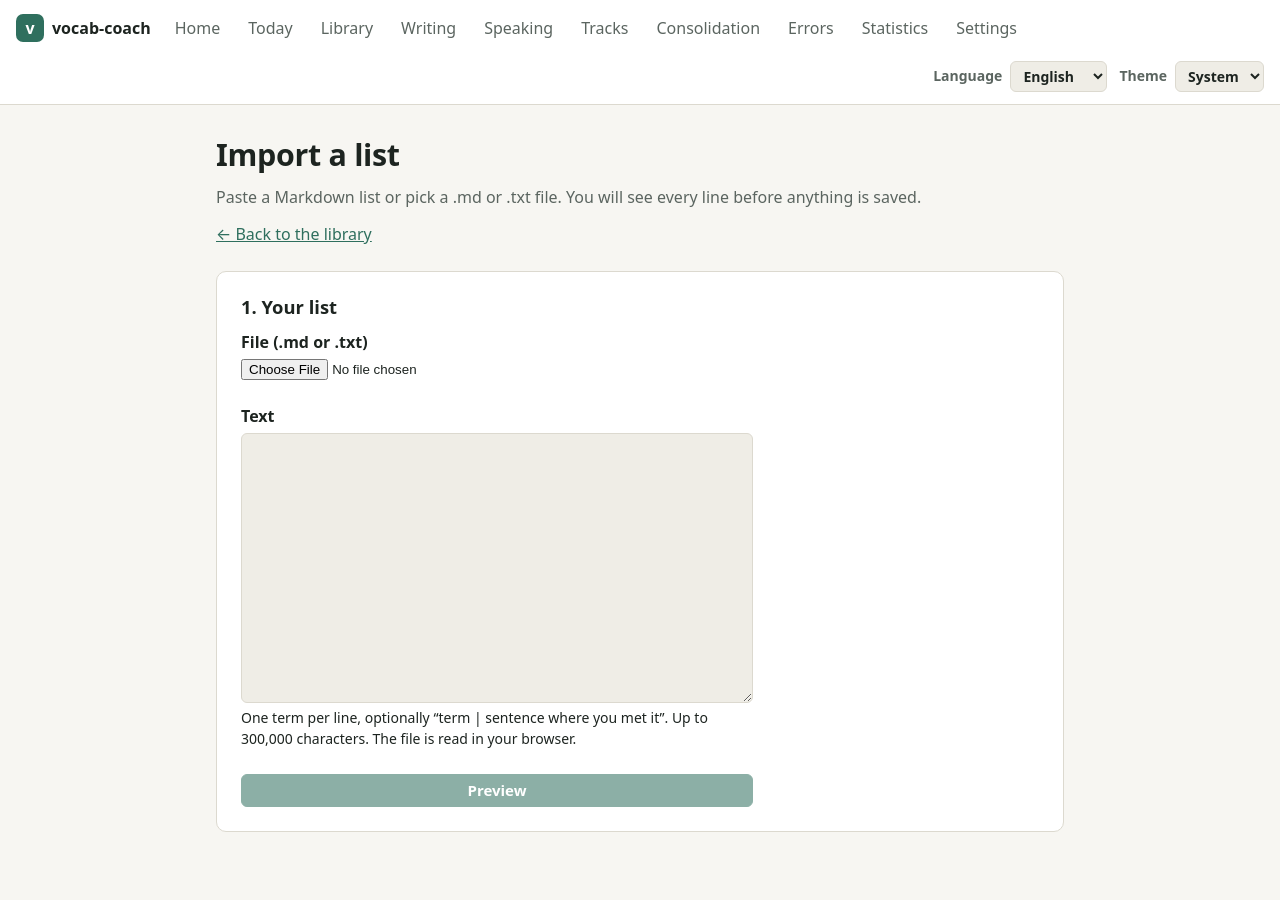
import page › keeps the default duplicate choice: attach to the exact match
The width and height of the screenshot is (1280, 900).
Type "- sampling frame" into the text box labelled "Text" at [497, 568], box [241, 432, 753, 703]
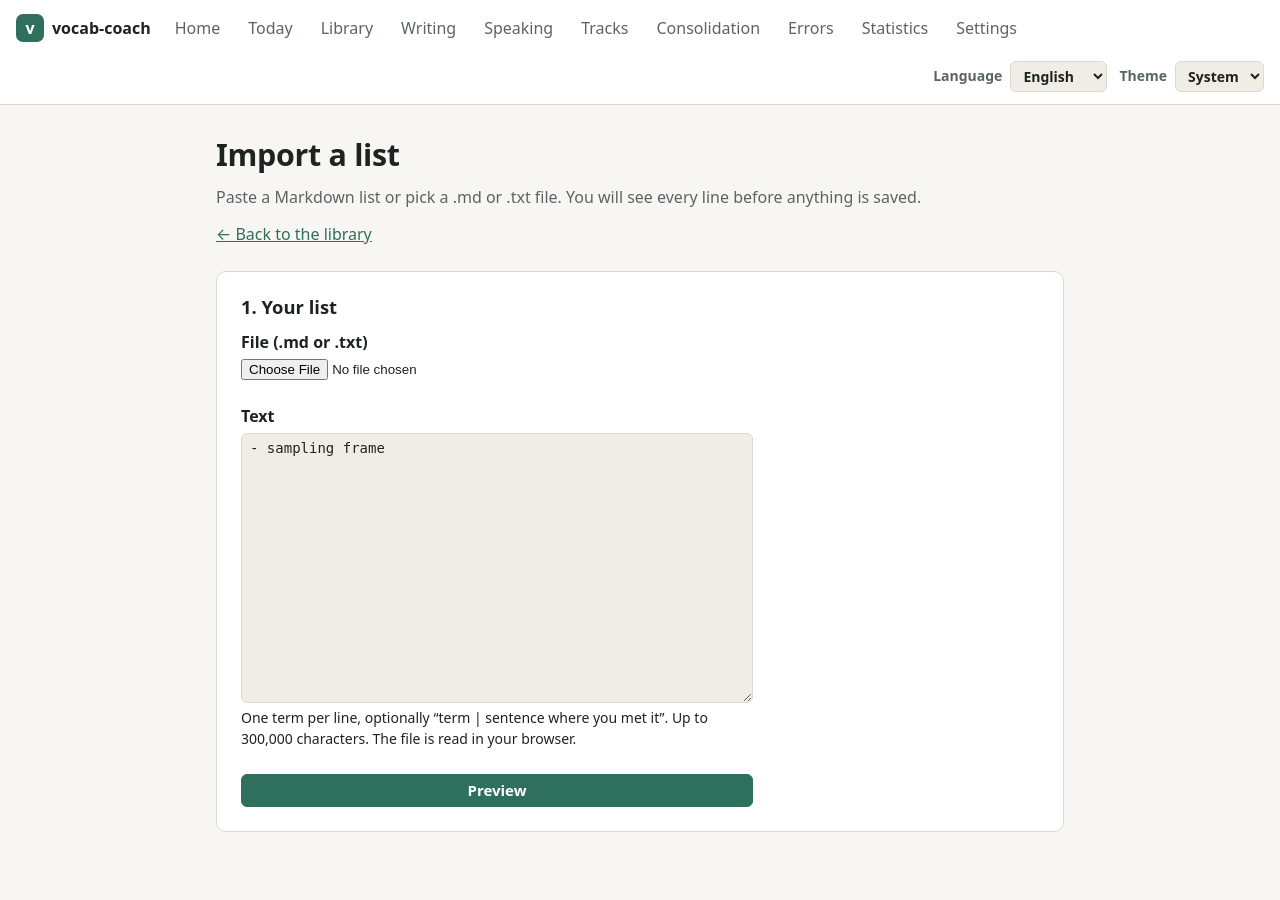
Click the button "Preview" at [497, 791], box [241, 774, 753, 808]
(page scrolled)
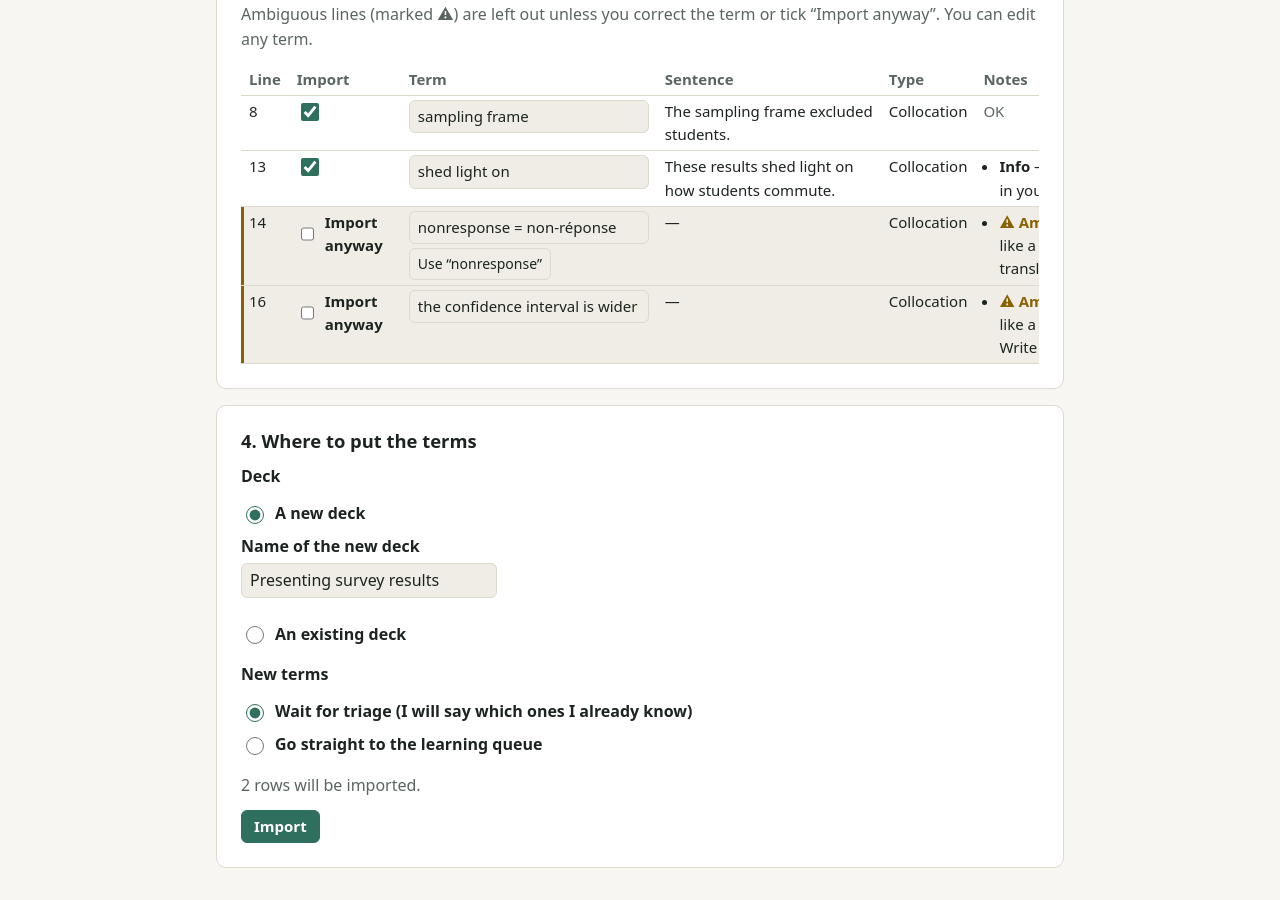
Click the button "Import" at [280, 826], box [241, 810, 320, 843]
(page scrolled)
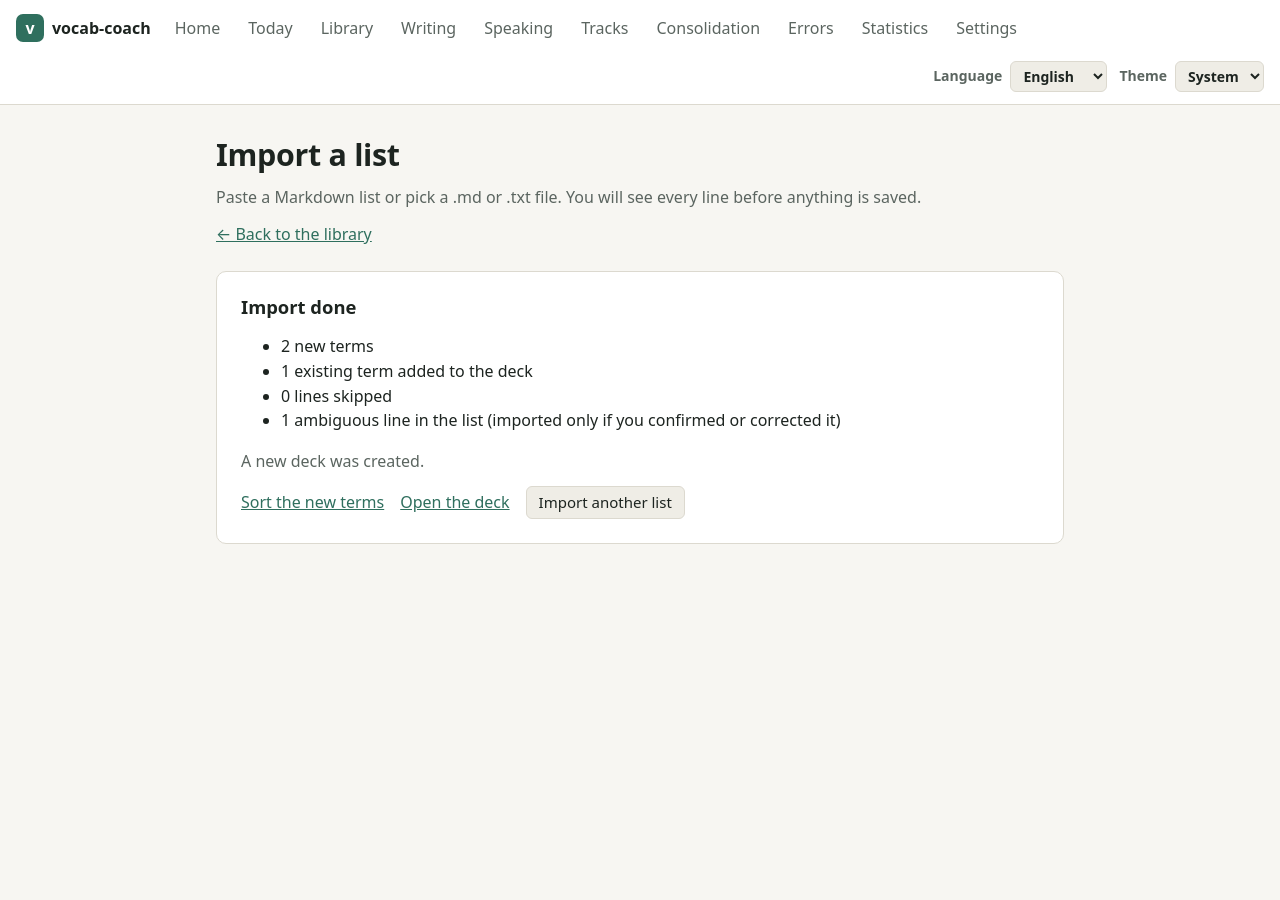
Expected: the heading "Import done" is shown, [241, 294, 356, 319]
